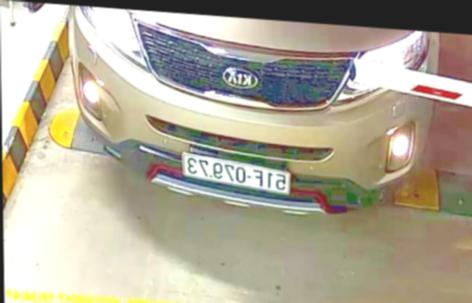License_Plate: (180, 155, 293, 198)
